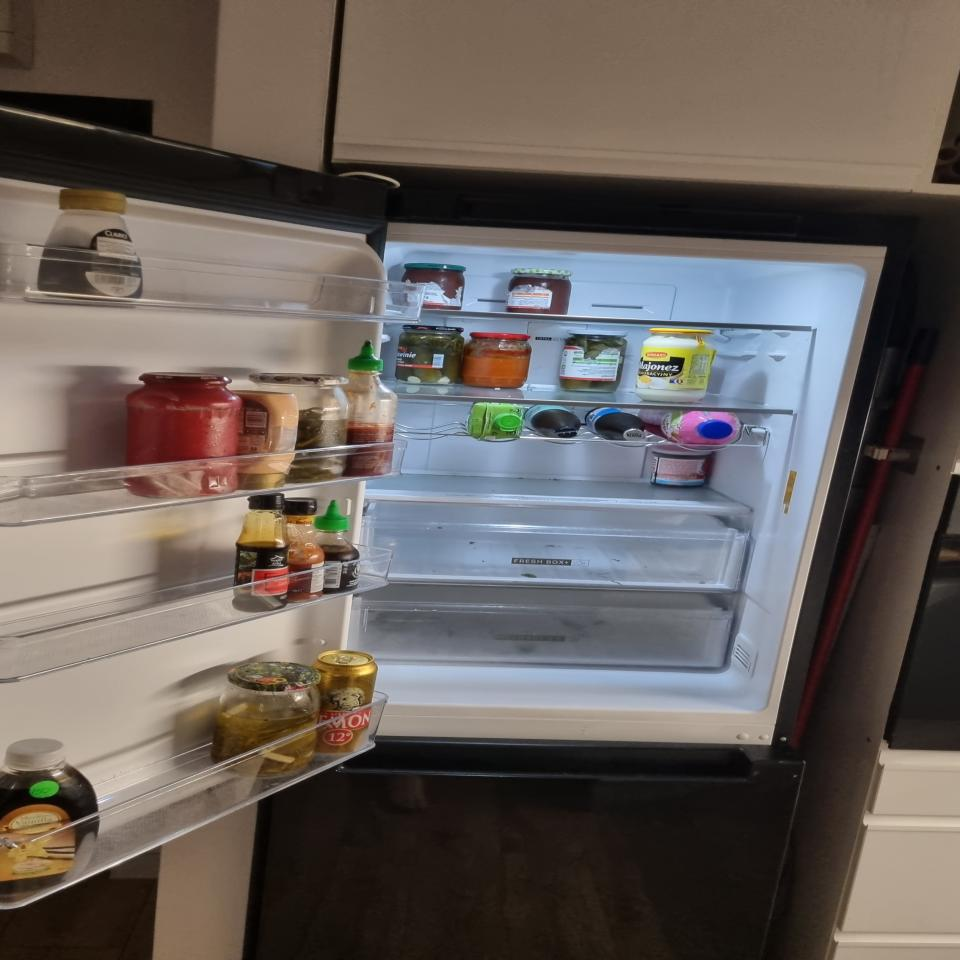mayonnaise: (634, 328, 716, 403)
